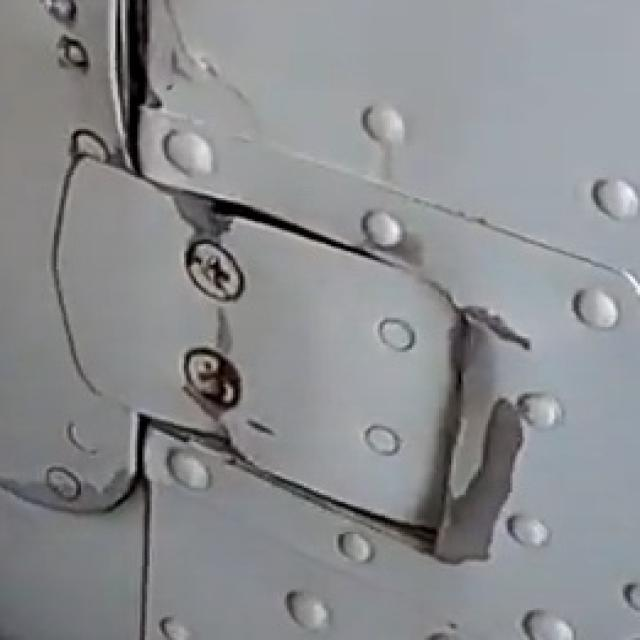crack: (197, 305, 232, 349)
